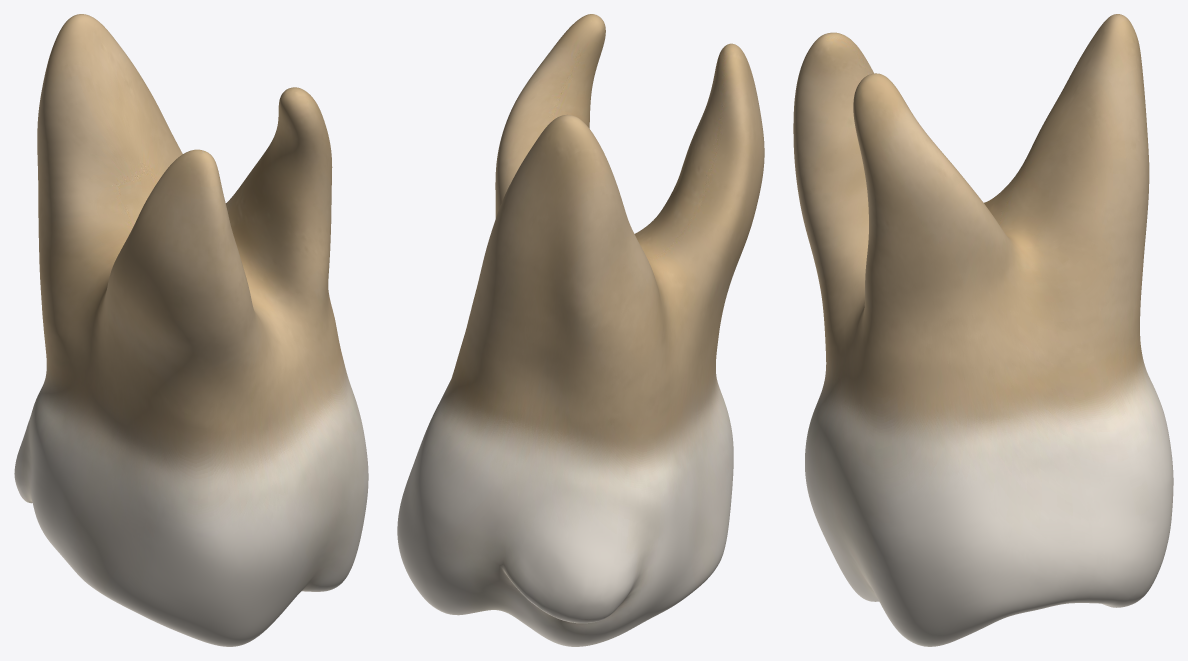
The model's file is Molar_1_Kanan_RA.glb.
The picture shows the model from 3 angles, left to right: view 1: azimuth 30°, elevation 25°; view 2: azimuth 150°, elevation 25°; view 3: azimuth 270°, elevation 25°; orthographic projection. The views are drawn at different scales.
Parts seen in each view (by area): view 1: Object_4; view 2: Object_4; view 3: Object_4.
Part boxes in pixels (box(x1,y1,x2,y2)): Object_4: box(14, 14, 368, 646); Object_4: box(397, 14, 764, 646); Object_4: box(793, 14, 1173, 646).
Size of the model in its own units: 4.42 by 8.51 by 5.21.
1 material, 1 textured.
